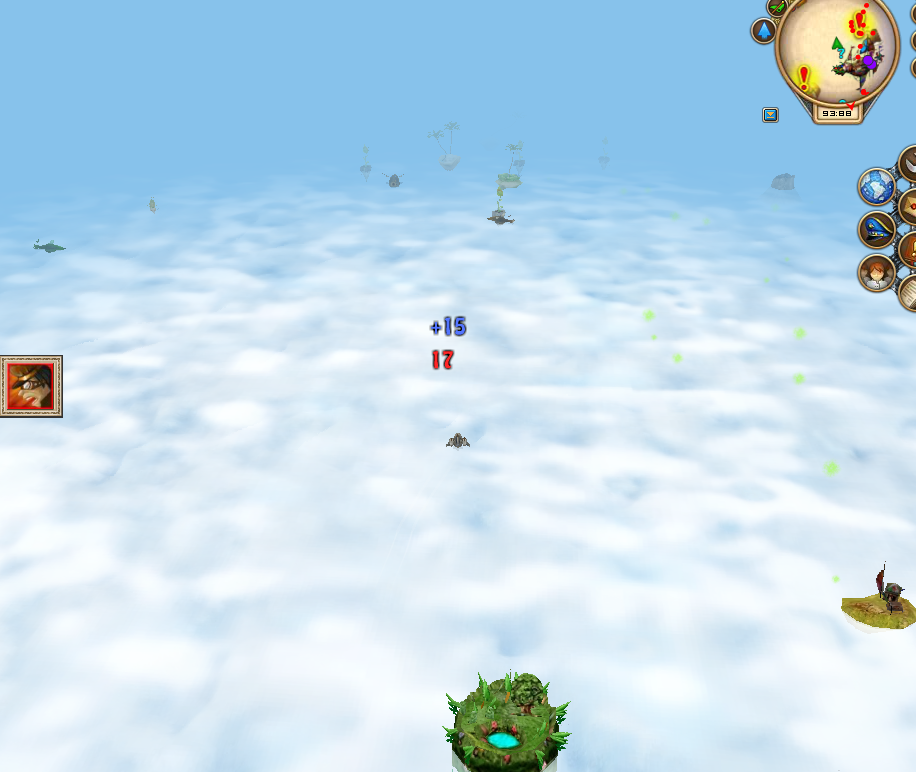palm: (426, 116, 464, 177), (494, 138, 528, 191)
